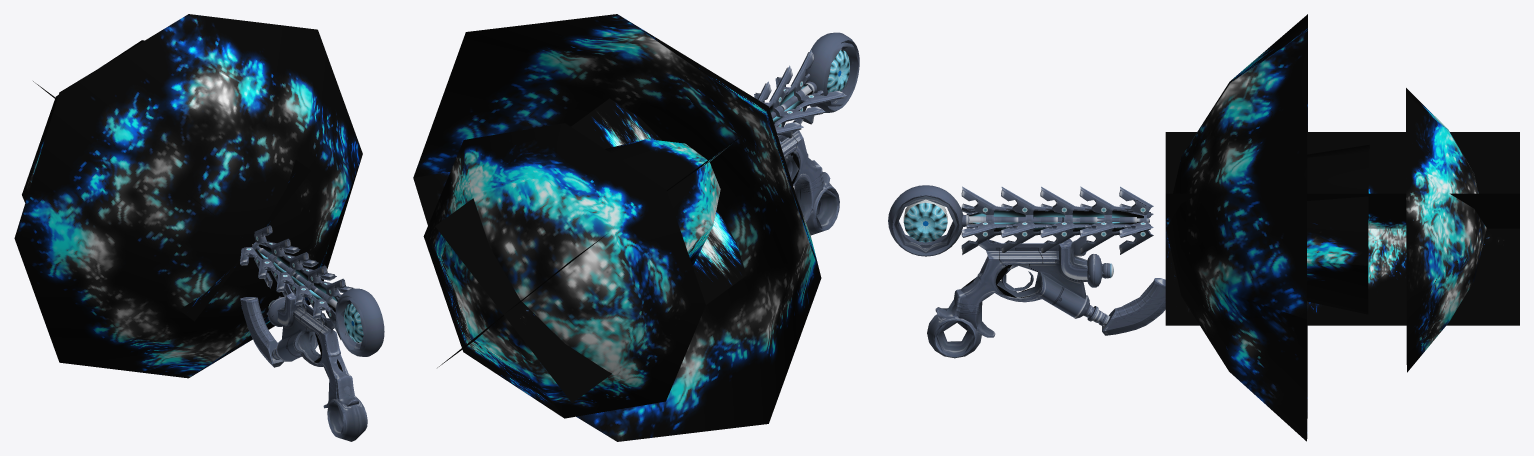
Rendered from Kral_AutodeskFBX2012.fbx.
3 renders of one model, left to right at view 1: azimuth 30°, elevation 25°; view 2: azimuth 150°, elevation 25°; view 3: azimuth 270°, elevation 25°, orthographic. The views are drawn at different scales.
Parts seen in each view (by area): view 1: Kral_MuzzleFlash3_LOD300, Kral_LOD300, Kral_LOD100, Kral_LOD200; view 2: Kral_MuzzleFlash3_LOD300, Kral_MuzzleFlash1_LOD300, Kral_LOD300, Kral_LOD100, Kral_LOD200; view 3: Kral_MuzzleFlash3_LOD300, Kral_MuzzleFlash1_LOD300, Kral_LOD300, Kral_LOD100, Kral_LOD200.
Part boxes in pixels (x1=…): Kral_MuzzleFlash3_LOD300: x1=14, y1=14, x2=362, y2=378; Kral_LOD300: x1=240, y1=225, x2=384, y2=441; Kral_LOD100: x1=241, y1=226, x2=366, y2=436; Kral_LOD200: x1=241, y1=226, x2=366, y2=398; Kral_MuzzleFlash3_LOD300: x1=413, y1=14, x2=821, y2=441; Kral_MuzzleFlash1_LOD300: x1=435, y1=139, x2=720, y2=402; Kral_LOD300: x1=754, y1=32, x2=859, y2=235; Kral_LOD100: x1=755, y1=42, x2=858, y2=228; Kral_LOD200: x1=772, y1=40, x2=859, y2=188; Kral_MuzzleFlash3_LOD300: x1=1165, y1=14, x2=1486, y2=441; Kral_MuzzleFlash1_LOD300: x1=1165, y1=132, x2=1519, y2=325; Kral_LOD300: x1=888, y1=185, x2=1165, y2=358; Kral_LOD100: x1=894, y1=189, x2=1165, y2=354; Kral_LOD200: x1=892, y1=194, x2=1165, y2=329.
Size of what is drawn, in the model's own units: 25.42 by 25.43 by 37.01.
